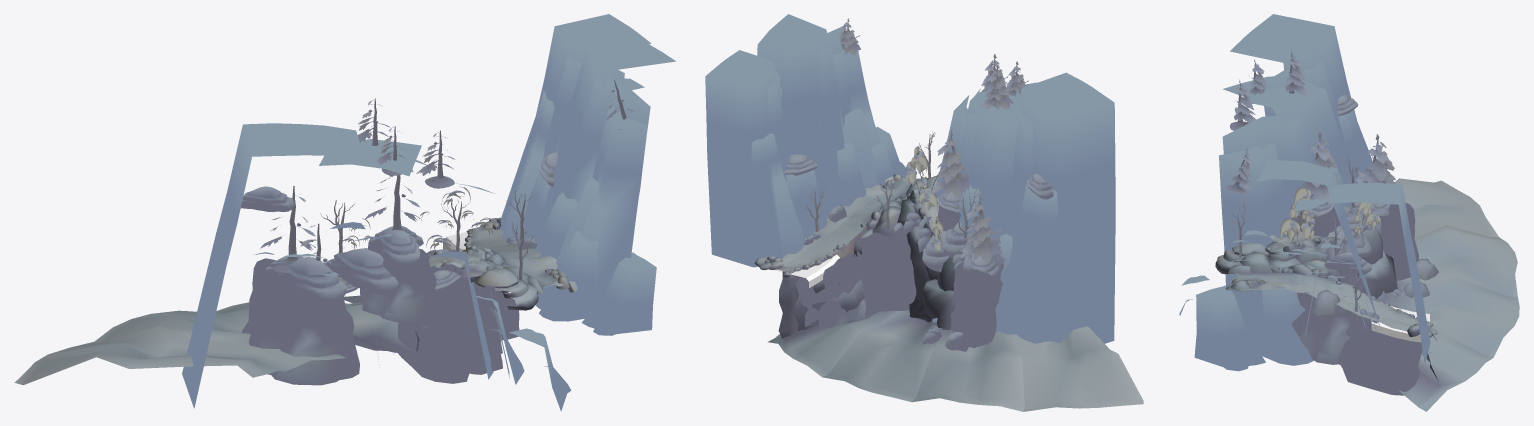
File: Arctic_Narrows_Left_End_A.glb
3 views of the same model, side by side, from view 1: azimuth 30°, elevation 25°; view 2: azimuth 150°, elevation 25°; view 3: azimuth 270°, elevation 25° (orthographic). The views are drawn at different scales.
Visible parts, largest first — view 1: Arctic_Narrows_Left_End_A; view 2: Arctic_Narrows_Left_End_A, inv_fill; view 3: Arctic_Narrows_Left_End_A, inv_fill.
Part boxes in pixels (x1,y1,x2,y2): Arctic_Narrows_Left_End_A: (14, 14, 676, 411); Arctic_Narrows_Left_End_A: (705, 14, 1143, 411); inv_fill: (773, 254, 839, 287); Arctic_Narrows_Left_End_A: (1179, 14, 1519, 411); inv_fill: (1371, 305, 1429, 342).
Bounding box in the file's own units: 41.35 × 23.51 × 26.22.
